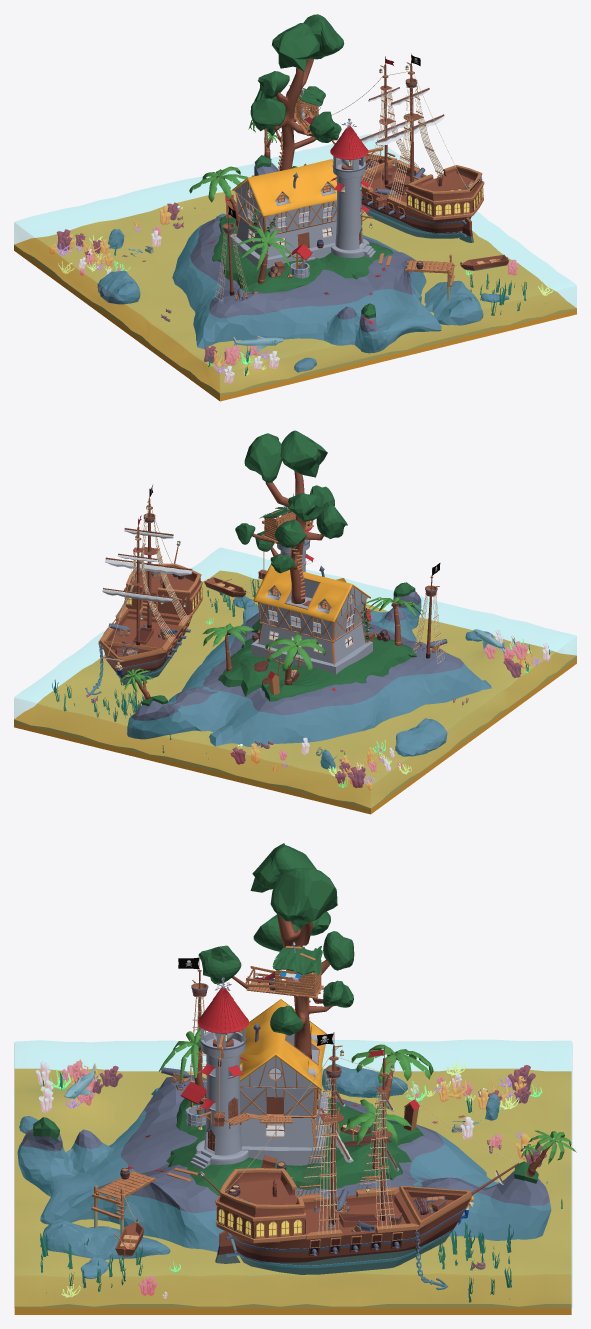
The model's file is pirate_island.glb.
3 views of the same model, one above another, from view 1: azimuth 30°, elevation 25°; view 2: azimuth 150°, elevation 25°; view 3: azimuth 270°, elevation 25° (orthographic). The views are drawn at different scales.
Parts seen in each view (by area): view 1: Water_120, Sand_119, LandMass_81, BoatMain_6, House_286, Main Green_82, LightHouseF_70, Roof_285, Rock.001_114, Tree_284, Icosphere.006_295, Rock.004_117 (+9 smaller); view 2: Water_120, Sand_119, LandMass_81, BoatMain_6, House_286, Main Green_82, Roof_285, Icosphere.006_295, Tree_284, Rock.004_117, Icosphere.005_294, PalmTree.001_87 (+7 smaller); view 3: Water_120, Sand_119, LandMass_81, BoatMain_6, House_286, Main Green_82, LightHouseF_70, Roof_285, Icosphere.005_294, Rock.001_114, Tree_284, Rock.004_117 (+11 smaller).
Part boxes in pixels (x1,y1,x2,y2): Water_120: (14, 134, 576, 396); Sand_119: (14, 191, 576, 401); LandMass_81: (172, 163, 441, 353); BoatMain_6: (331, 53, 484, 242); House_286: (230, 180, 336, 268); Main Green_82: (212, 215, 392, 292); LightHouseF_70: (330, 126, 375, 258); Roof_285: (231, 159, 344, 217); Rock.001_114: (424, 280, 483, 325); Tree_284: (273, 58, 316, 170); Icosphere.006_295: (272, 23, 319, 71); Rock.004_117: (97, 270, 140, 304); Water_120: (14, 548, 576, 809); Sand_119: (14, 570, 576, 814); LandMass_81: (127, 591, 491, 746); BoatMain_6: (98, 485, 202, 684); House_286: (251, 577, 372, 674); Main Green_82: (218, 619, 416, 701); Roof_285: (253, 564, 370, 622); Icosphere.006_295: (280, 430, 327, 477); Tree_284: (252, 471, 323, 603); Rock.004_117: (395, 718, 447, 756); Icosphere.005_294: (244, 433, 282, 482); PalmTree.001_87: (265, 633, 325, 685); Water_120: (14, 1040, 572, 1308); Sand_119: (14, 1068, 571, 1314); LandMass_81: (17, 1075, 551, 1256); BoatMain_6: (198, 1032, 519, 1274); House_286: (235, 1033, 327, 1165); Main Green_82: (166, 1098, 423, 1195); LightHouseF_70: (190, 988, 248, 1168); Roof_285: (238, 999, 326, 1090); Icosphere.005_294: (270, 868, 337, 925); Rock.001_114: (40, 1218, 170, 1259); Tree_284: (232, 914, 332, 1058); Rock.004_117: (322, 1063, 407, 1097).
Size of the model in its own units: 45.48 by 31.7 by 45.85.
11 materials, 11 textured.
